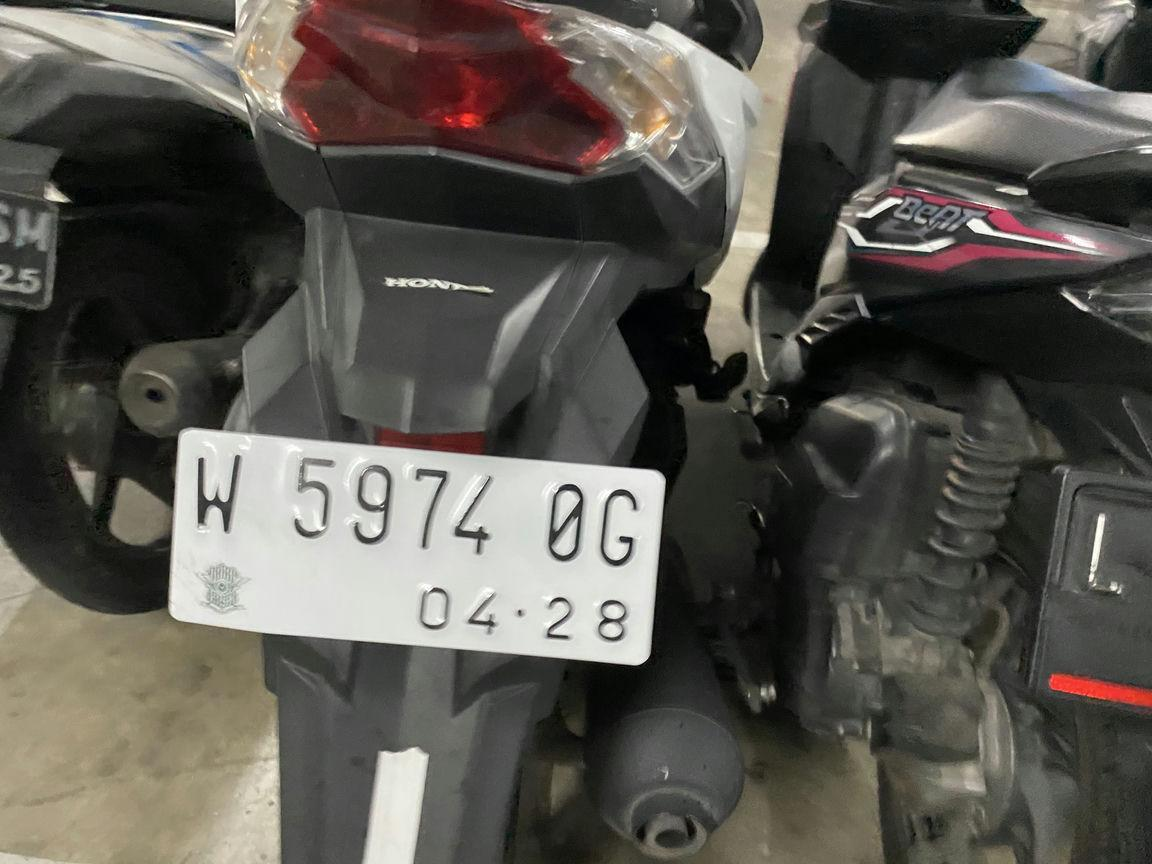plat: (169, 428, 666, 666)
